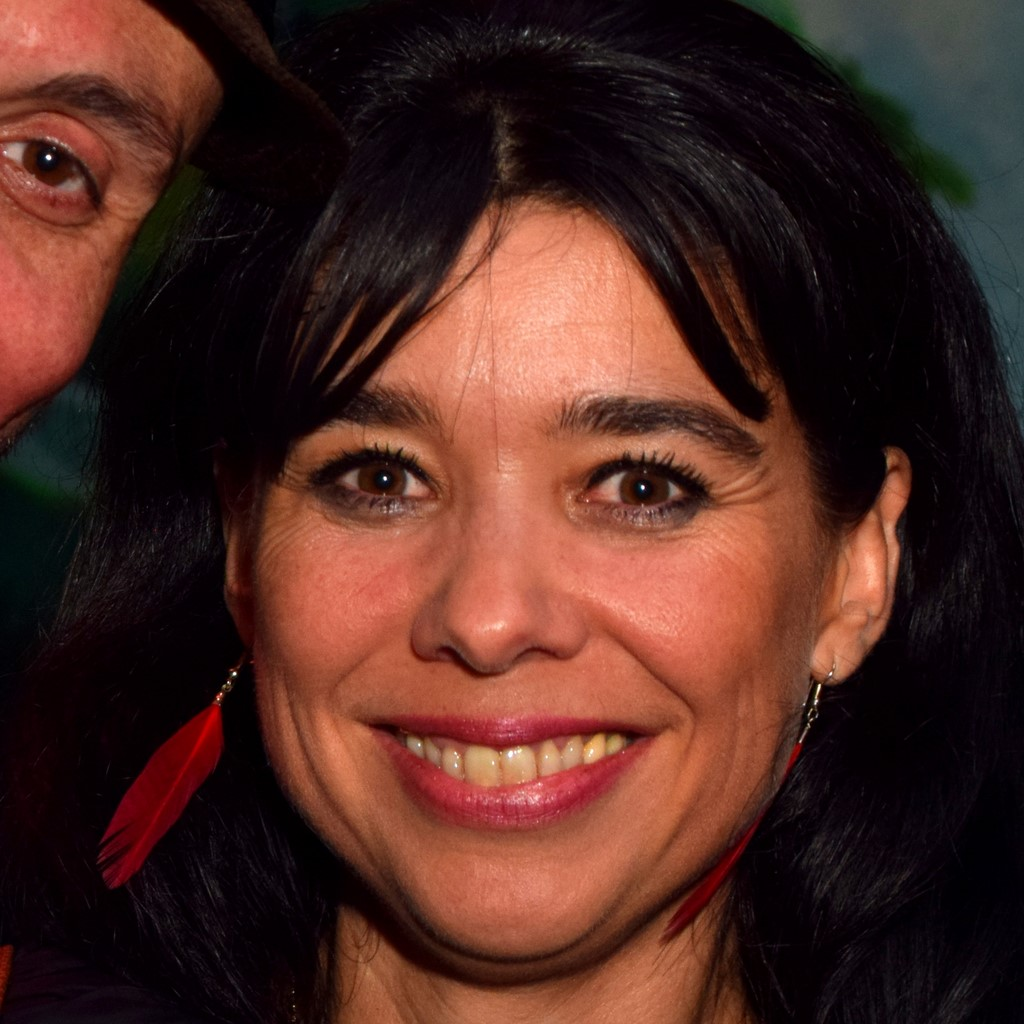sin_mascara: (238, 172, 876, 955)
